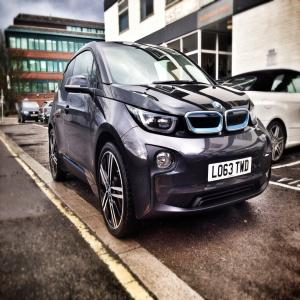Vehicle-registration-plate: (208, 158, 252, 183), (32, 115, 39, 117)
